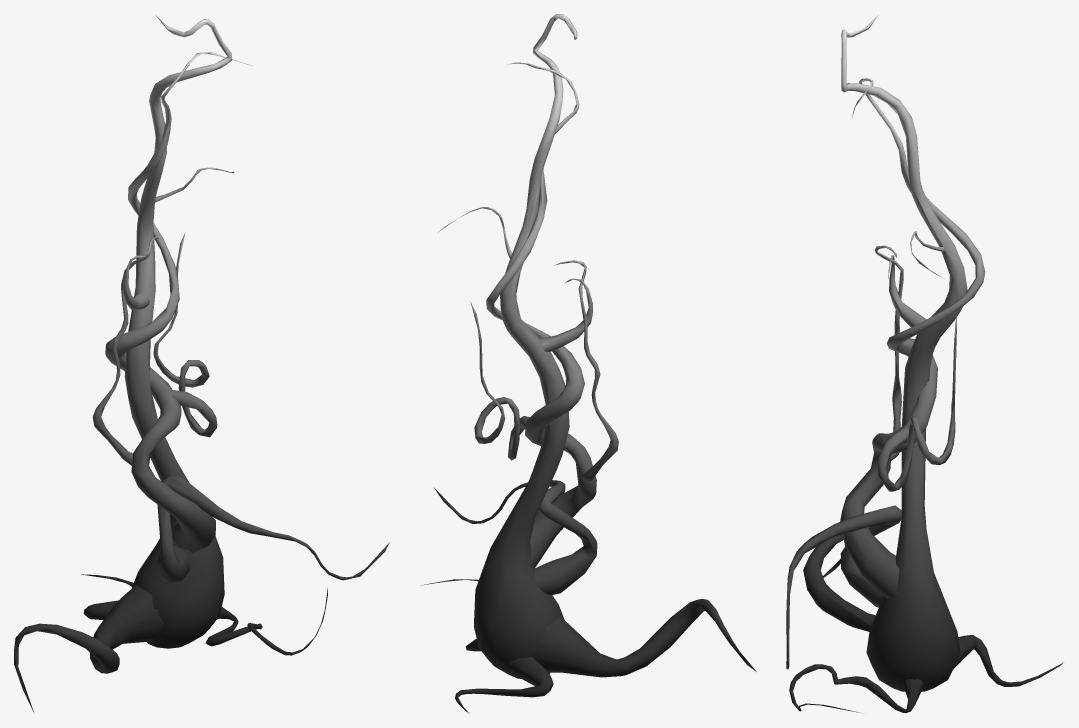
File: vinha2.fbx
The picture shows the model from 3 angles, left to right: view 1: azimuth 30°, elevation 25°; view 2: azimuth 150°, elevation 25°; view 3: azimuth 270°, elevation 25°; orthographic projection. The views are drawn at different scales.
Visible parts, largest first — view 1: vinha2; view 2: vinha2; view 3: vinha2.
Boxes of the visible parts, x1,y1,x2,y2 form: vinha2: (14, 15, 389, 712); vinha2: (422, 14, 756, 713); vinha2: (786, 15, 1063, 713).
Size of the model in its own units: 0.7527 by 1.35 by 0.5205.
